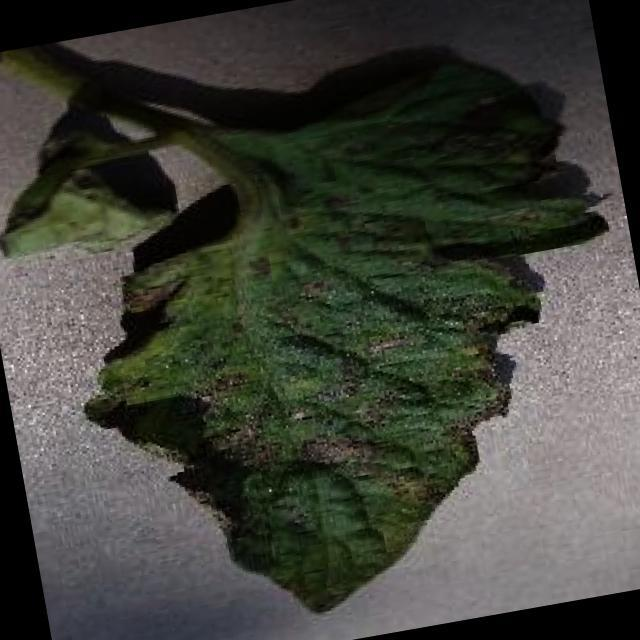Tomato Early blight leaf: (33, 50, 640, 640)
